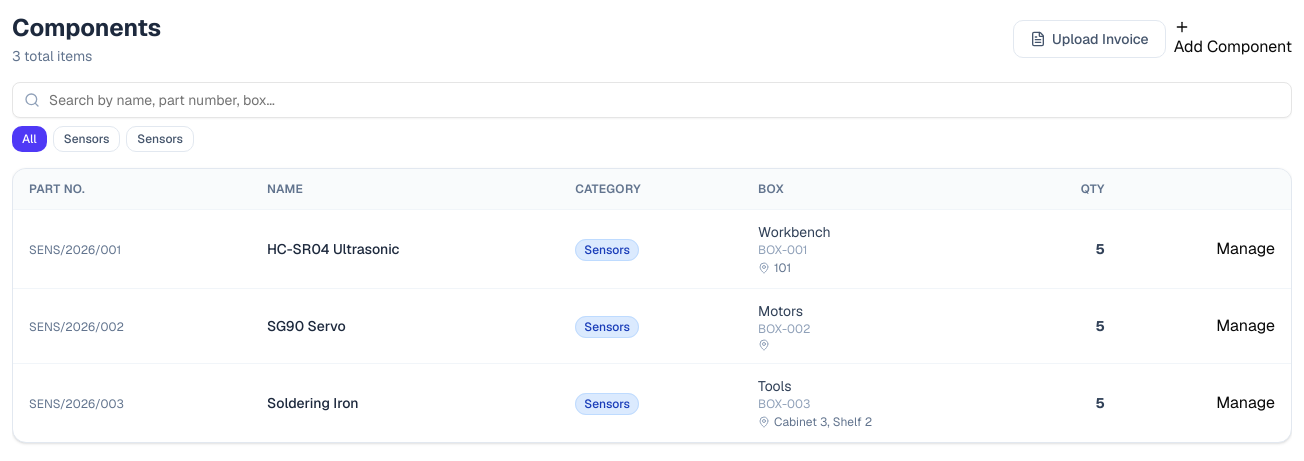
Scenario: ComponentsClient search does not crash the page › survives typing a full multi-character query
Type "servo" into the field with placeholder "Search by name, part number, box...".
click(652, 100); type("servo")  # box top-left (12, 82), bottom-right (1292, 118)
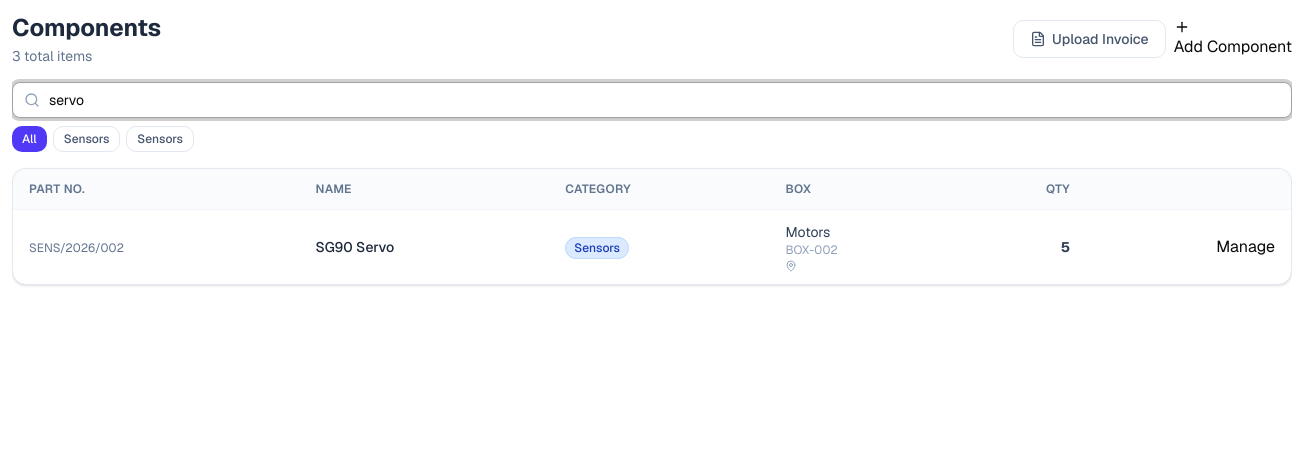
Expected: the text "SG90 Servo" is shown, top-left (316, 238), bottom-right (394, 256)
Now the text "HC-SR04 Ultrasonic" is gone
